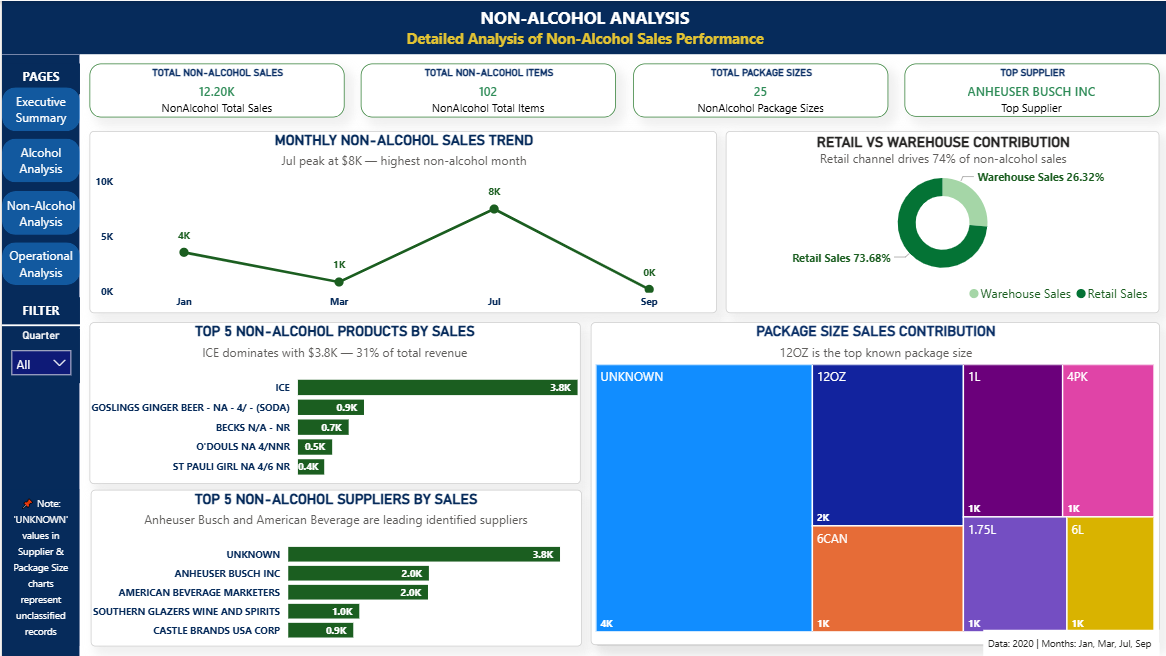

The dashboard page shown, as its layout file describes it:
{"tool":"powerbi","page":{"name":"Non-Alcohol Analysis","canvas":[1280,720],"ordinal":2},"visuals":[{"type":"textbox","box":[0,0,1280,58.6],"z":0},{"type":"cardVisual","title":"TOTAL NON-ALCOHOL SALES","fields":{"Data":["non_alcohol_data_processed.NonAlcohol Total Sales"]},"box":[96.1,68.6,280,59],"z":0,"group":"g1"},{"type":"shape","box":[0,59,85.1,661.4],"z":1000},{"type":"cardVisual","title":"TOTAL NON-ALCOHOL ITEMS","fields":{"Data":["non_alcohol_data_processed.NonAlcohol Total Items"]},"box":[394.3,68.6,280,59],"z":1000,"group":"g1"},{"type":"cardVisual","title":"TOTAL PACKAGE SIZES","fields":{"Data":["non_alcohol_data_processed.NonAlcohol Package Sizes"]},"box":[692.5,68.6,280,59],"z":2000,"group":"g1"},{"type":"textbox","box":[0,68.8,85.7,33.8],"z":2000},{"type":"cardVisual","title":"TOP SUPPLIER","fields":{"Data":["Min(non_alcohol_data_processed.supplier)"]},"box":[990.8,68.6,279.9,58.7],"z":3000,"group":"g1"},{"type":"actionButton","box":[0,208.7,85.7,48.3],"z":3000},{"type":"actionButton","box":[0,150.8,85.7,48.3],"z":4000},{"type":"actionButton","box":[0,265.4,85.7,47.1],"z":5000},{"type":"slicer","title":"Quarter","fields":{"Values":["non_alcohol_data_processed.quarter"]},"box":[0,360,85.7,60],"z":6000},{"type":"actionButton","box":[0,94.1,85.7,48.3],"z":7000},{"type":"textbox","box":[0,325.7,85.7,33.8],"z":8000},{"type":"group","id":"g1","title":"Group 1","box":[96.1,68.6,1174.6,59],"z":9000},{"type":"lineChart","title":"MONTHLY NON-ALCOHOL SALES TREND","fields":{"Y":["Sum(non_alcohol_data_processed.total_sales)"],"Category":["non_alcohol_data_processed.Month Name"]},"box":[96.1,142.7,688.9,200.3],"z":10000,"group":"g2"},{"type":"shape","box":[0,341.4,85.7,28.6],"z":10000},{"type":"clusteredBarChart","title":"TOP 5 NON-ALCOHOL PRODUCTS BY SALES","fields":{"Y":["Sum(non_alcohol_data_processed.total_sales)"],"Category":["non_alcohol_data_processed.item_description"]},"box":[96.1,352.7,539,177.4],"z":10000,"group":"g3"},{"type":"donutChart","title":"RETAIL VS WAREHOUSE  CONTRIBUTION","fields":{"Y":["Sum(non_alcohol_data_processed.warehouse_sales)","Sum(non_alcohol_data_processed.retail_sales)"]},"box":[794.6,142.7,476.1,200.3],"z":11000,"group":"g2"},{"type":"clusteredBarChart","title":"TOP 5 ALCOHOL SUPPLIERS BY SALES","fields":{"Y":["Sum(alcohol_data_processed.total_sales)"],"Category":["alcohol_data_processed.supplier"]},"box":[650.4,531,539.3,177],"z":11000},{"type":"clusteredBarChart","title":"TOP 5 NON-ALCOHOL SUPPLIERS BY SALES","fields":{"Y":["Sum(non_alcohol_data_processed.total_sales)"],"Category":["non_alcohol_data_processed.supplier"]},"box":[97.1,536.2,538.9,171.9],"z":11000,"group":"g3"},{"type":"group","id":"g2","title":"Group 2","box":[96.1,142.7,1174.6,200.3],"z":12000},{"type":"group","id":"g3","title":"Group 3","box":[96.1,352.7,1174.6,355.4],"z":13000},{"type":"treemap","title":"PACKAGE SIZE SALES CONTRIBUTION","fields":{"Values":["Sum(non_alcohol_data_processed.total_sales)"],"Group":["non_alcohol_data_processed.package_size"]},"box":[646,352.7,624.7,354.7],"z":14000,"group":"g3"},{"type":"textbox","box":[1077.2,690.2,193.5,30.2],"z":14000},{"type":"textbox","box":[0,536.5,85.1,171.5],"z":15000}]}

Visuals, with their boxes on the page's 1280x720 design canvas (x1, y1, x2, y2). These are canvas units, not pixel positions in the 1166x656 screenshot, which may show the page scaled, cropped or inside an application window:
textbox: bbox=[0, 0, 1280, 59]
"TOTAL NON-ALCOHOL SALES" cardVisual: bbox=[96, 69, 376, 128]
shape: bbox=[0, 59, 85, 720]
"TOTAL NON-ALCOHOL ITEMS" cardVisual: bbox=[394, 69, 674, 128]
"TOTAL PACKAGE SIZES" cardVisual: bbox=[692, 69, 972, 128]
textbox: bbox=[0, 69, 86, 103]
"TOP SUPPLIER" cardVisual: bbox=[991, 69, 1271, 127]
actionButton: bbox=[0, 209, 86, 257]
actionButton: bbox=[0, 151, 86, 199]
actionButton: bbox=[0, 265, 86, 312]
"Quarter" slicer: bbox=[0, 360, 86, 420]
actionButton: bbox=[0, 94, 86, 142]
textbox: bbox=[0, 326, 86, 360]
"Group 1" group: bbox=[96, 69, 1271, 128]
"MONTHLY NON-ALCOHOL SALES TREND" lineChart: bbox=[96, 143, 785, 343]
shape: bbox=[0, 341, 86, 370]
"TOP 5 NON-ALCOHOL PRODUCTS BY SALES" clusteredBarChart: bbox=[96, 353, 635, 530]
"RETAIL VS WAREHOUSE  CONTRIBUTION" donutChart: bbox=[795, 143, 1271, 343]
"TOP 5 ALCOHOL SUPPLIERS BY SALES" clusteredBarChart: bbox=[650, 531, 1190, 708]
"TOP 5 NON-ALCOHOL SUPPLIERS BY SALES" clusteredBarChart: bbox=[97, 536, 636, 708]
"Group 2" group: bbox=[96, 143, 1271, 343]
"Group 3" group: bbox=[96, 353, 1271, 708]
"PACKAGE SIZE SALES CONTRIBUTION" treemap: bbox=[646, 353, 1271, 707]
textbox: bbox=[1077, 690, 1271, 720]
textbox: bbox=[0, 536, 85, 708]
